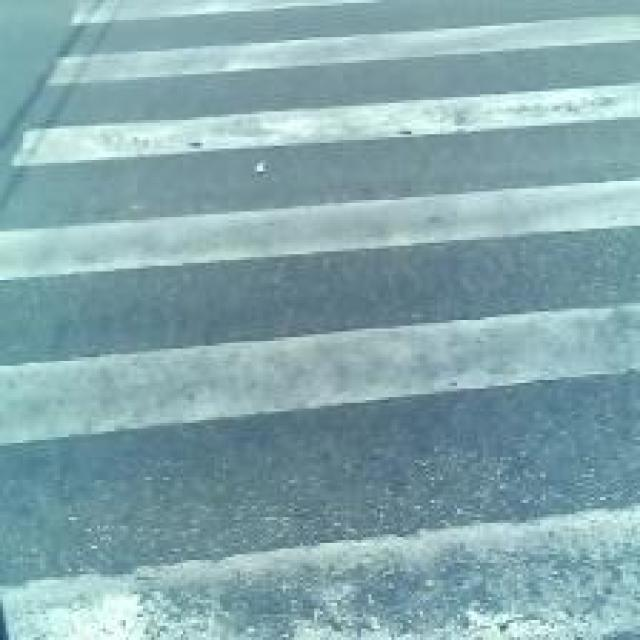walk-crossing: (77, 0, 640, 629)
